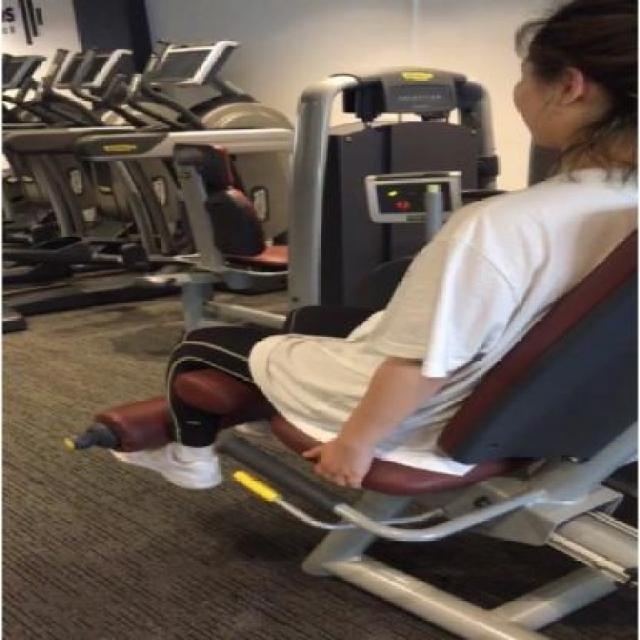leg extension: (52, 0, 640, 640)
